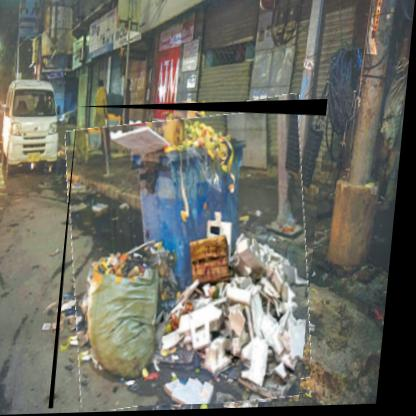Garbage: (58, 102, 332, 411)
